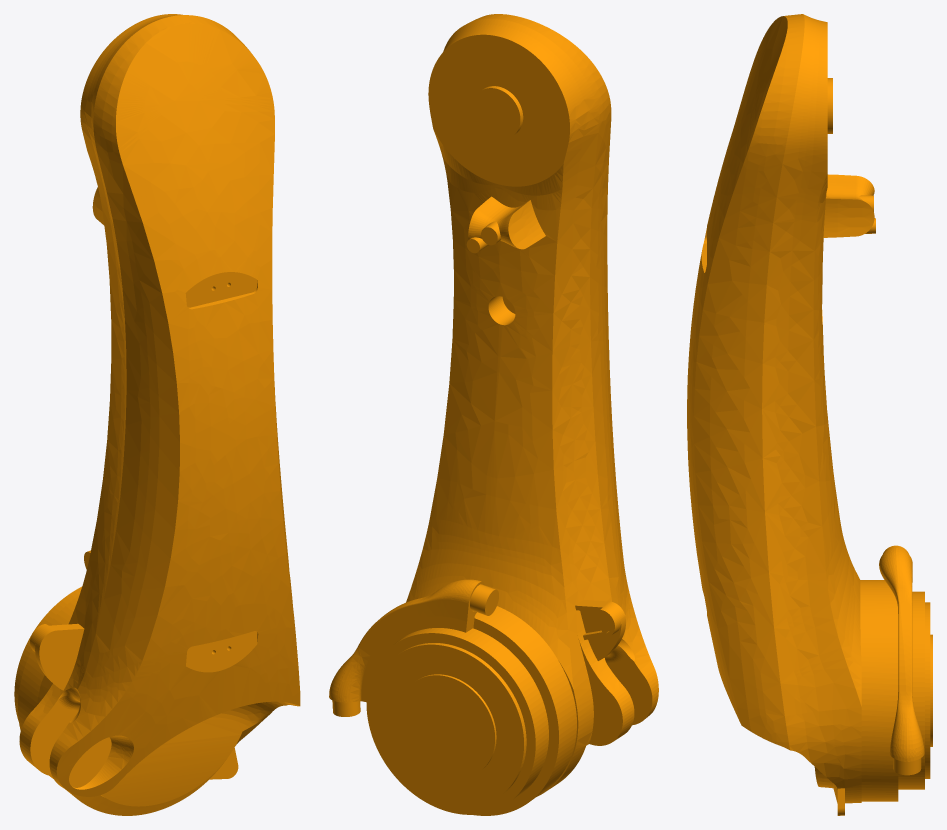
The picture shows the model from 3 angles, left to right: view 1: azimuth 30°, elevation 25°; view 2: azimuth 150°, elevation 25°; view 3: azimuth 270°, elevation 25°; orthographic projection. The views are drawn at different scales.
Visible parts, largest first — view 1: node0; view 2: node0; view 3: node0.
Boxes of the visible parts, <box> form: node0: <box>14,14,300,815</box>; node0: <box>329,14,658,815</box>; node0: <box>687,14,932,815</box>.
Size of the model in its own units: 0.5325 by 0.4384 by 1.51.
